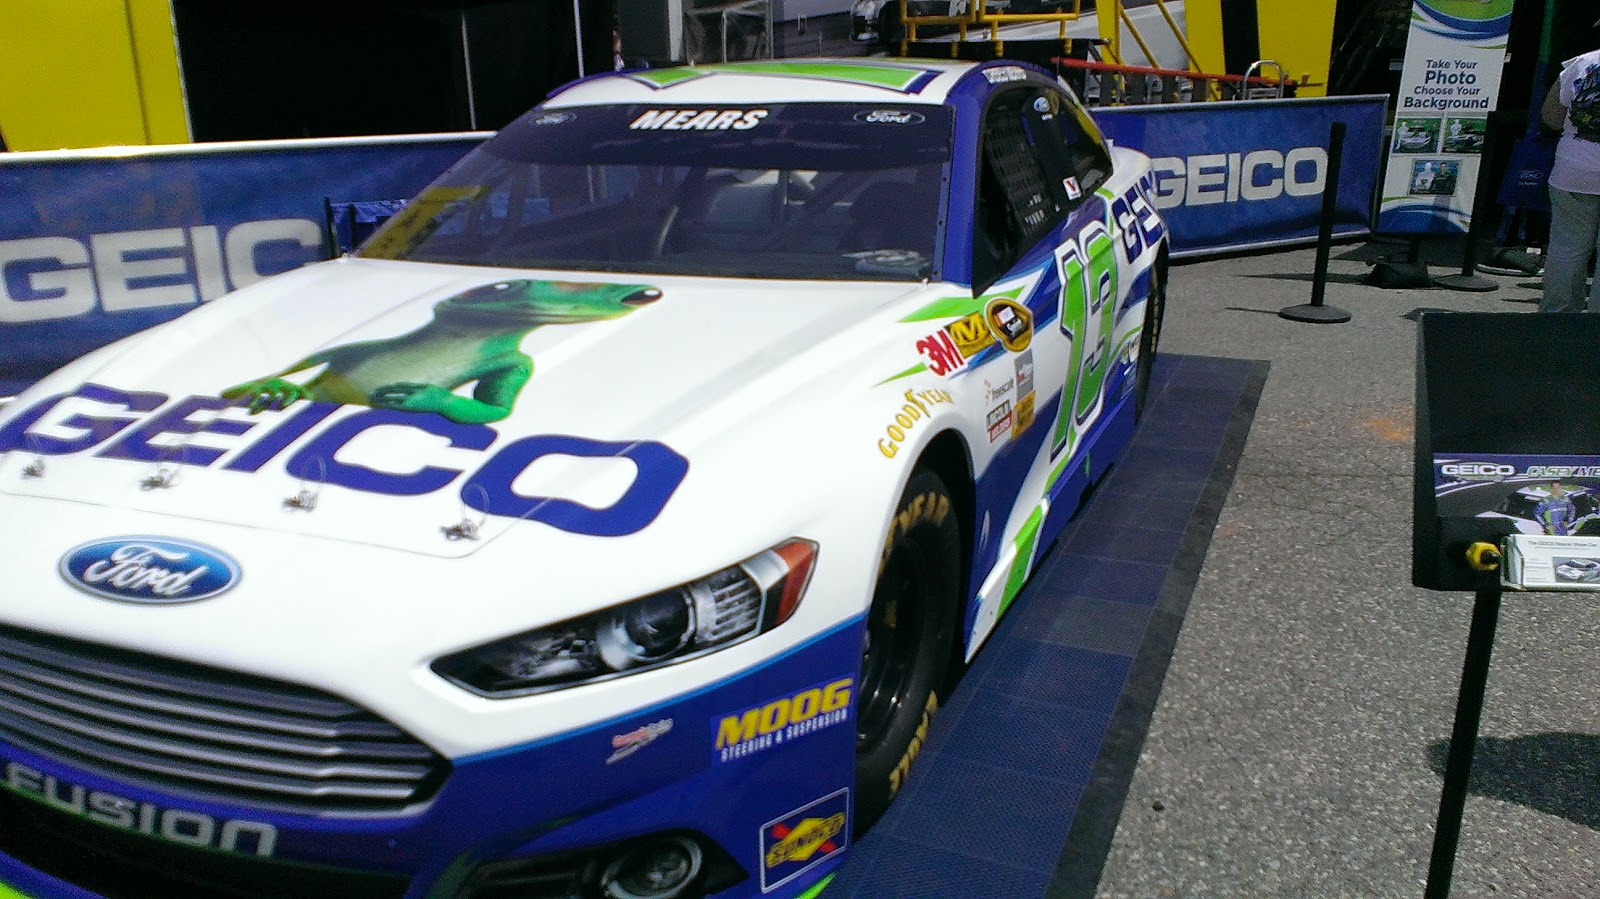Geico: (1, 367, 679, 544)
